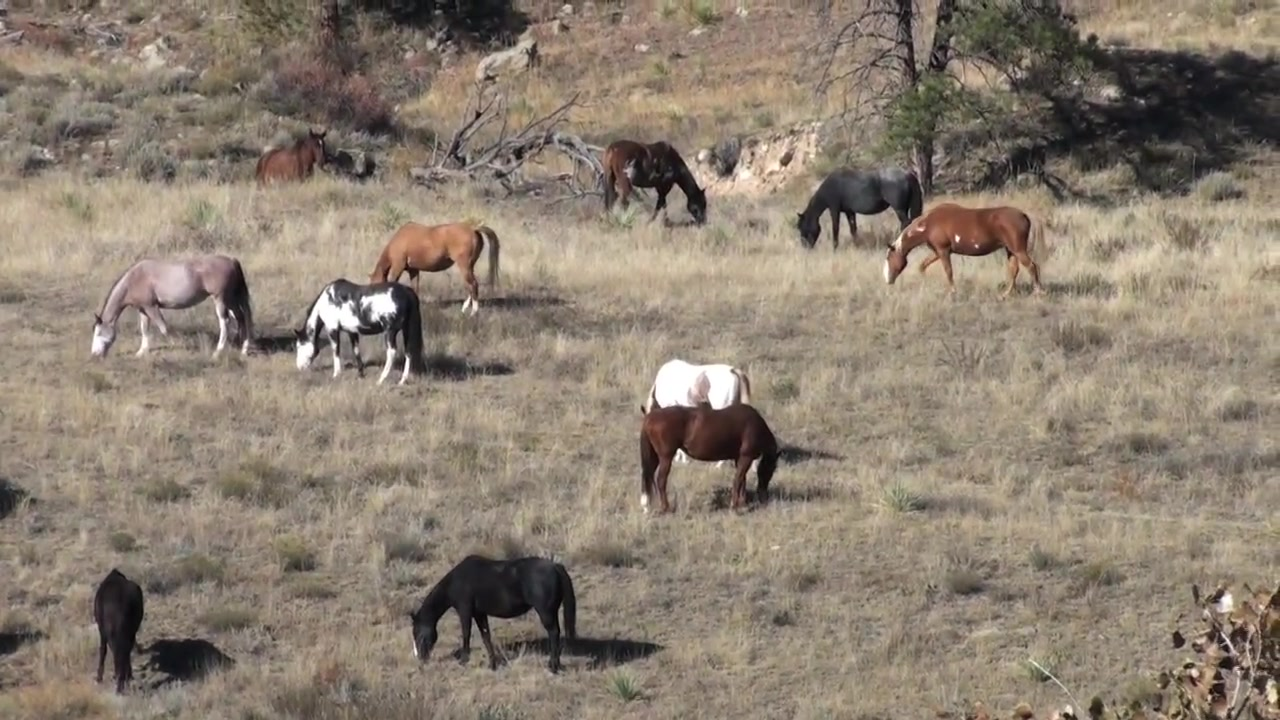horse: (404, 549, 586, 674)
